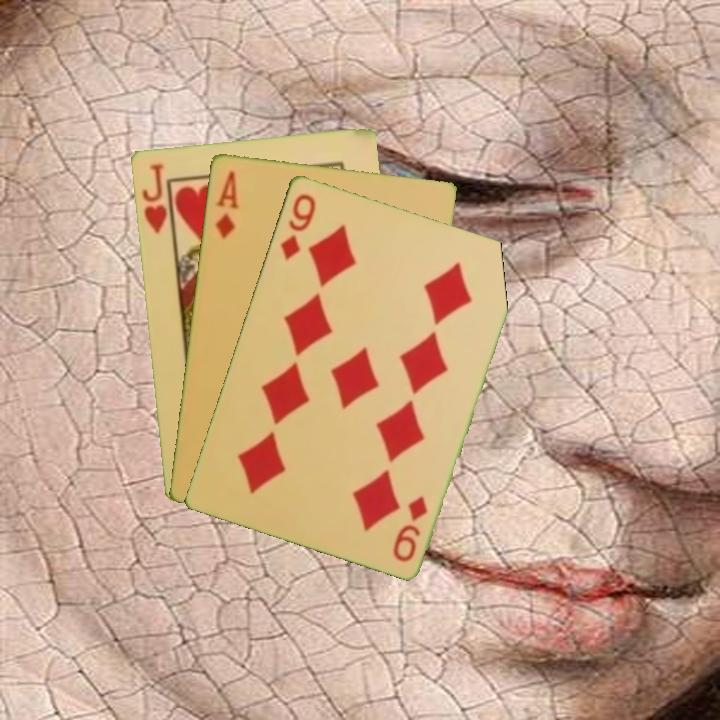9d: (276, 190, 318, 263), (389, 491, 431, 564)
Ad: (211, 166, 241, 241)
Jh: (138, 159, 170, 236)
